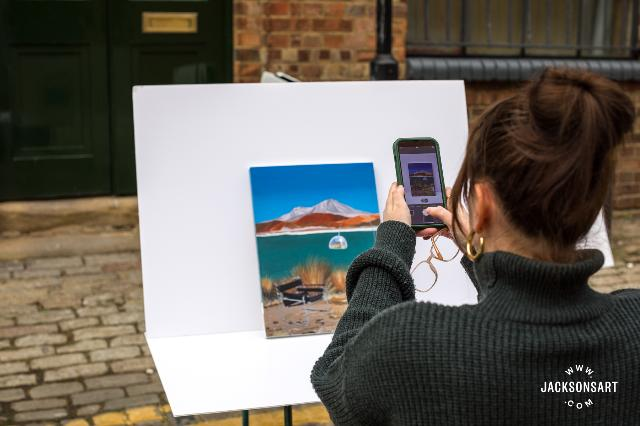art: (248, 167, 372, 337)
phone: (396, 139, 456, 229)
